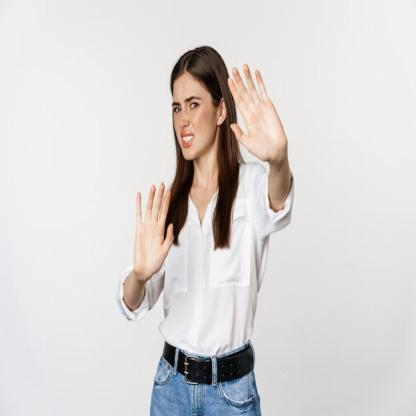stop: (224, 58, 286, 164), (132, 177, 178, 282)
